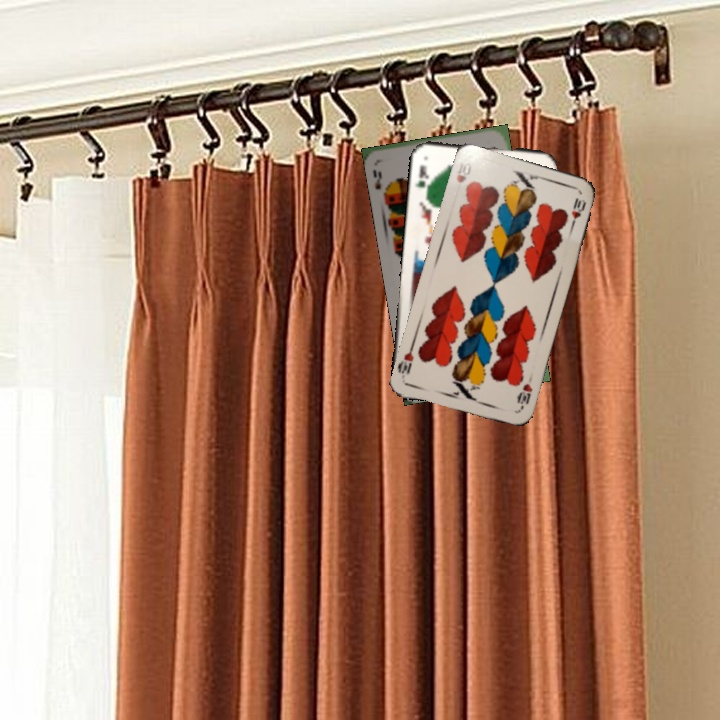GK: (411, 161, 432, 195)
H10: (513, 373, 535, 412), (452, 158, 474, 186)
S9: (369, 165, 392, 201)
